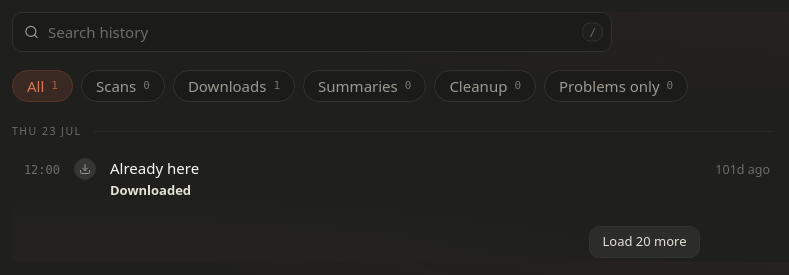
History regressions › keeps the loaded log when paging backwards fails
Expected: the text "Already here" is shown, [110, 158, 199, 178]
Click the button "Load 20 more" at (645,242), box [590, 226, 700, 258]
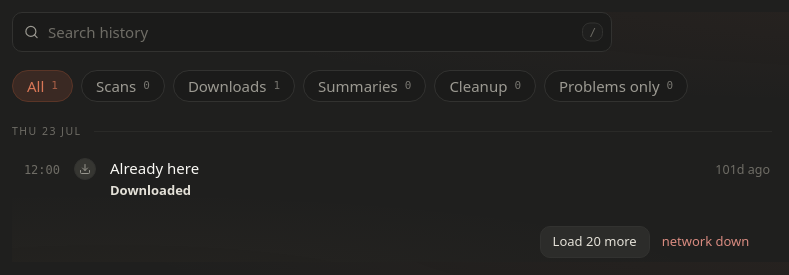
Expected: the text "Already here" is shown, [110, 158, 199, 178]
Expected: the text "network down" is shown, [662, 232, 749, 252]
